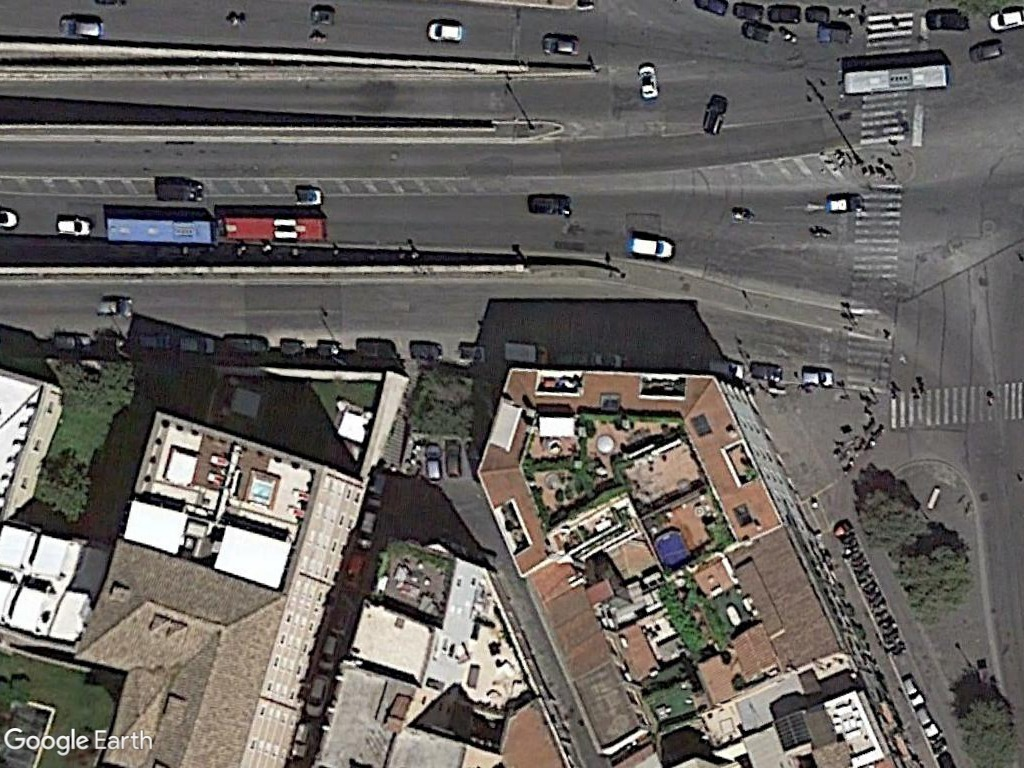bus: (99, 209, 216, 248), (836, 59, 956, 96), (213, 212, 335, 246)
car: (53, 9, 109, 42), (626, 232, 680, 262), (924, 4, 971, 33), (963, 37, 1007, 67), (421, 17, 468, 45), (700, 93, 728, 139), (48, 328, 94, 356), (821, 190, 867, 218), (912, 701, 943, 741), (537, 33, 586, 58), (980, 5, 1024, 32), (91, 294, 136, 320), (705, 354, 745, 383), (898, 671, 927, 710), (421, 438, 445, 484), (53, 216, 96, 240), (746, 359, 786, 384), (765, 2, 804, 26), (797, 365, 837, 388), (635, 62, 659, 100), (177, 334, 219, 355), (728, 0, 766, 22), (738, 22, 773, 43), (590, 351, 628, 370), (444, 436, 461, 478)
other: (150, 178, 210, 205), (523, 191, 577, 218), (406, 338, 447, 365), (354, 335, 398, 360), (815, 23, 857, 47), (135, 329, 175, 353), (453, 343, 492, 365), (306, 5, 340, 29), (291, 185, 324, 207), (313, 338, 344, 359)
truck: (499, 338, 553, 370)
van: (218, 335, 269, 356)
